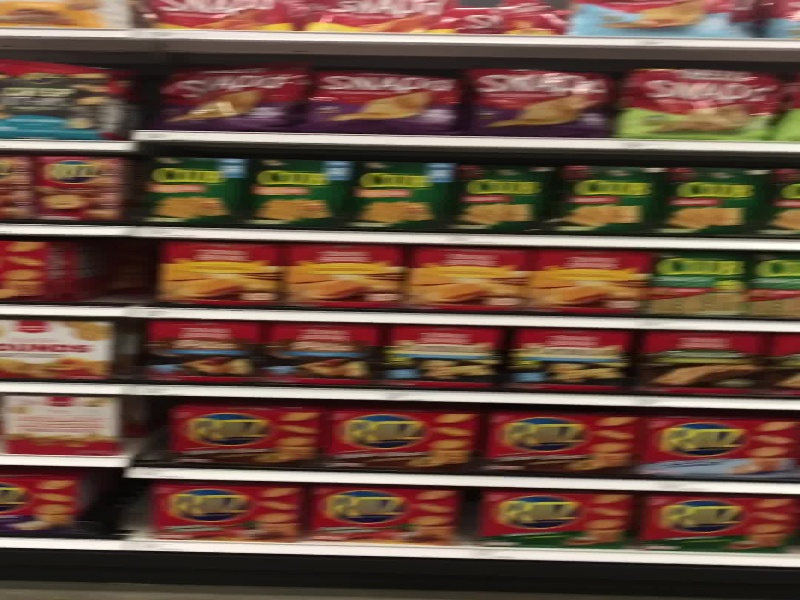empty_shelf_space: (78, 238, 154, 303)
